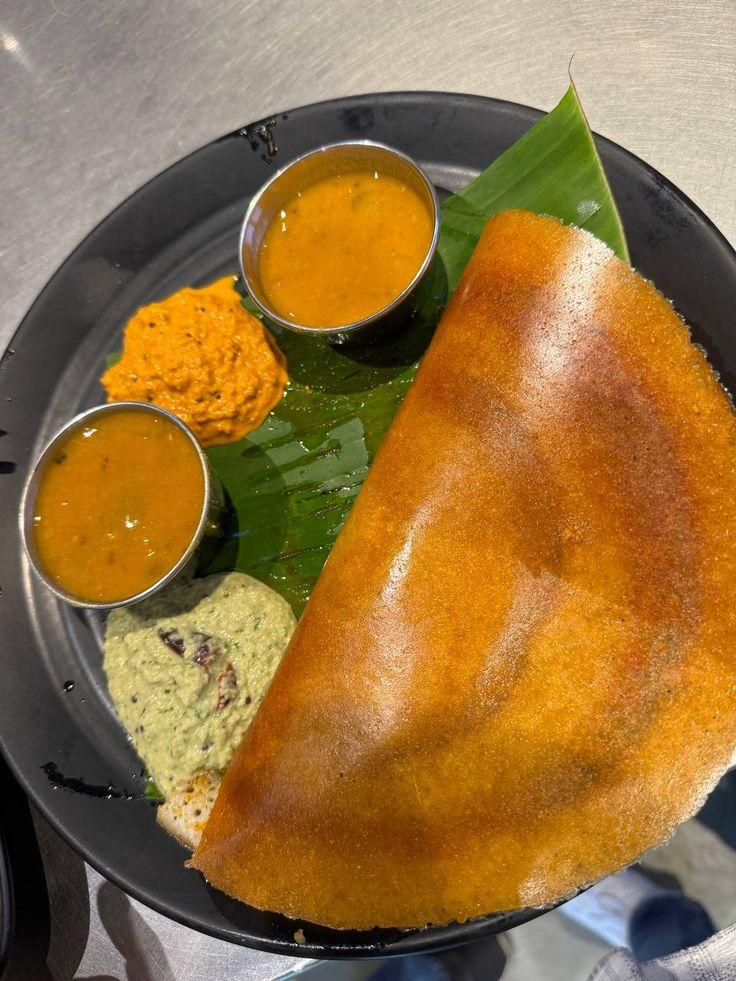dosa: (270, 219, 736, 954)
